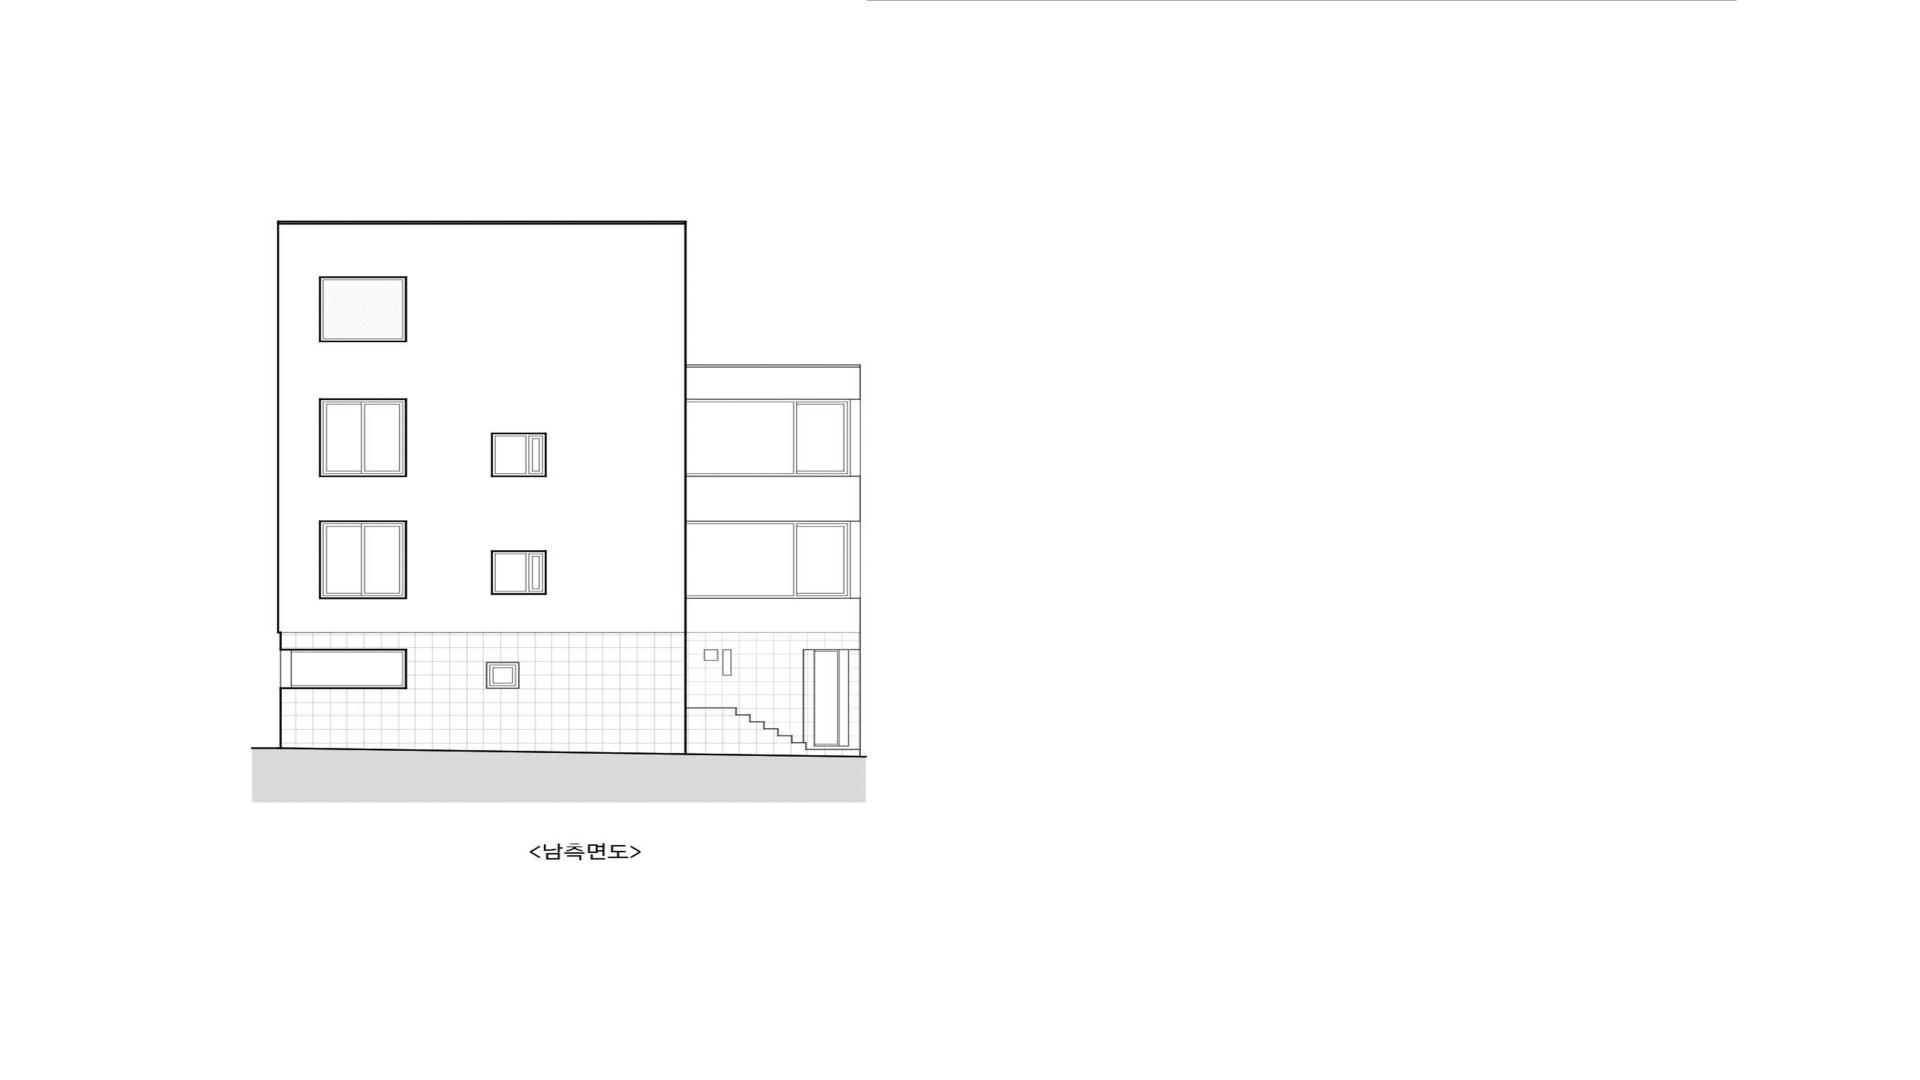door: (814, 649, 840, 746)
wall: (277, 220, 860, 757)
window: (686, 400, 851, 477), (686, 521, 851, 599), (319, 398, 407, 477), (319, 521, 407, 600), (319, 276, 407, 342), (290, 650, 406, 688), (492, 433, 547, 477), (492, 550, 546, 595), (487, 662, 520, 688), (723, 650, 732, 675), (704, 650, 719, 661)
